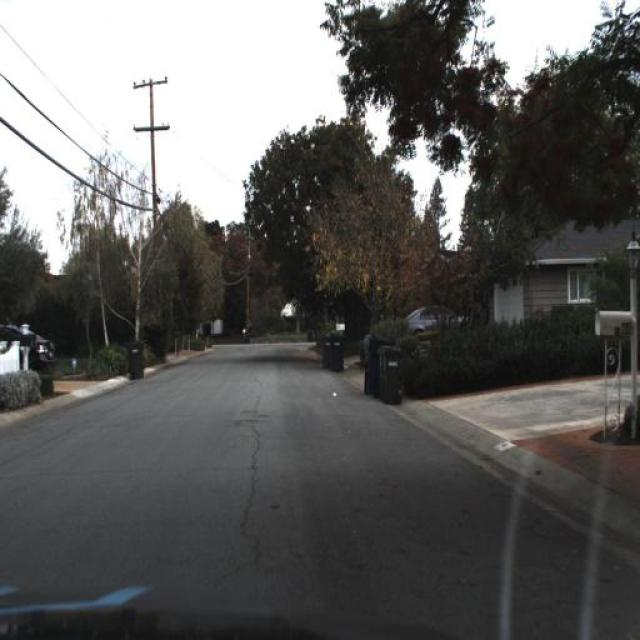car: (396, 288, 466, 350)
